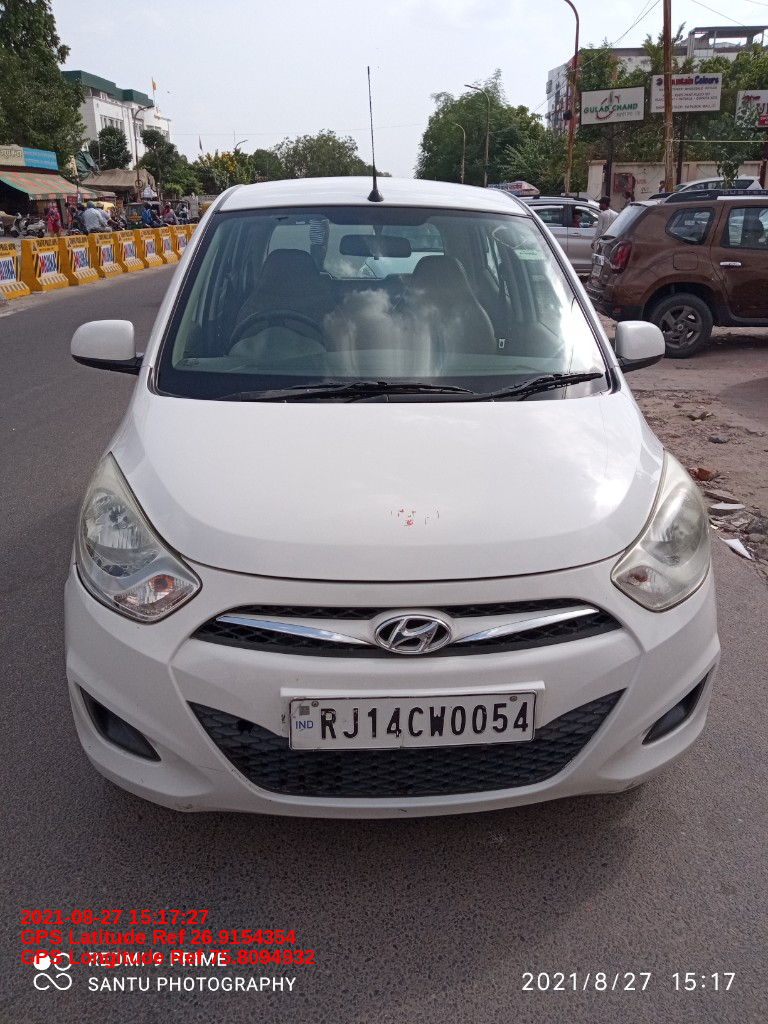Scratched: (232, 764, 265, 796), (606, 774, 644, 796), (194, 759, 228, 779), (166, 800, 199, 813), (275, 707, 291, 731), (395, 807, 412, 816)
